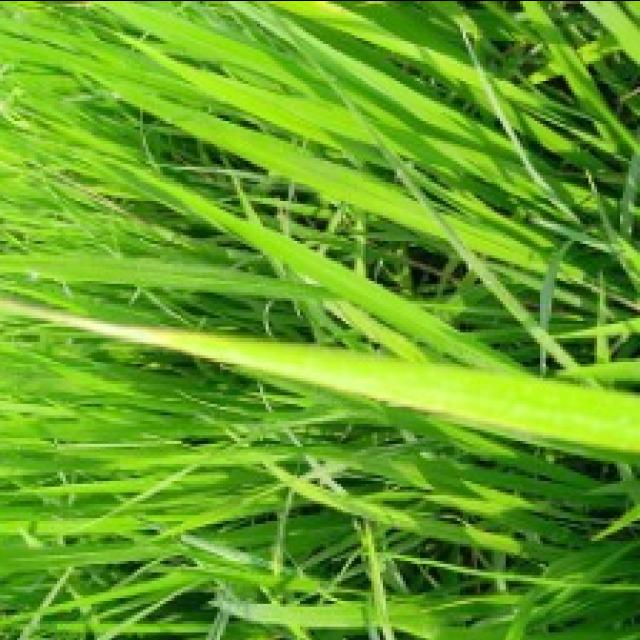Unhealthy: (0, 297, 167, 349)
